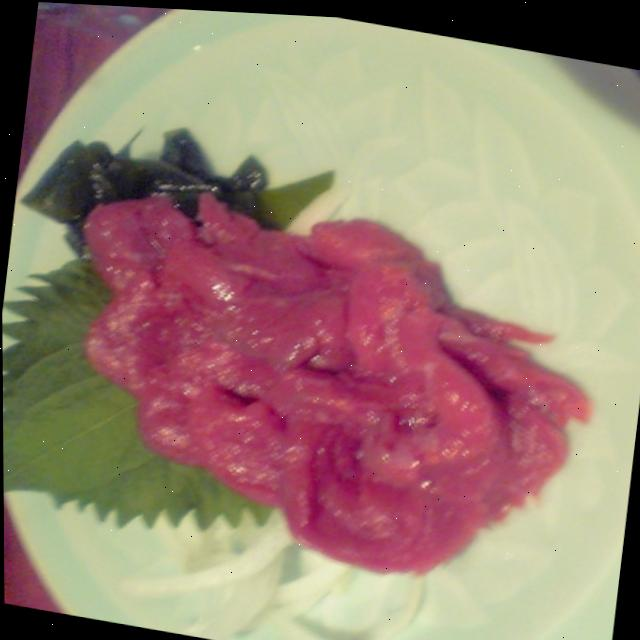刺身生食: (9, 69, 630, 640)
